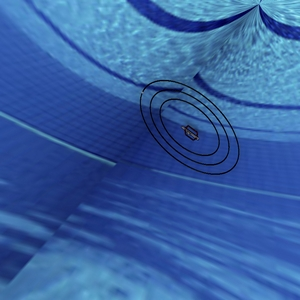circle: (124, 61, 247, 187)
submarine: (171, 110, 203, 149)
